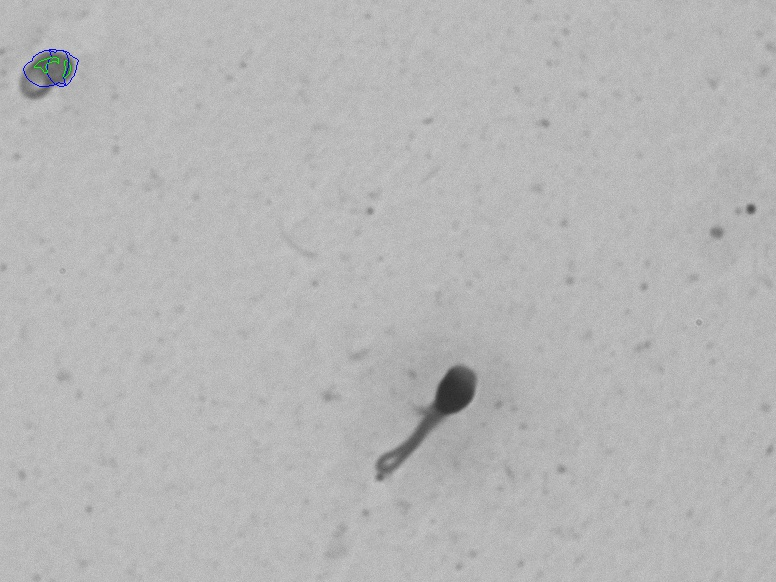Abnormal: (337, 320, 566, 479)
